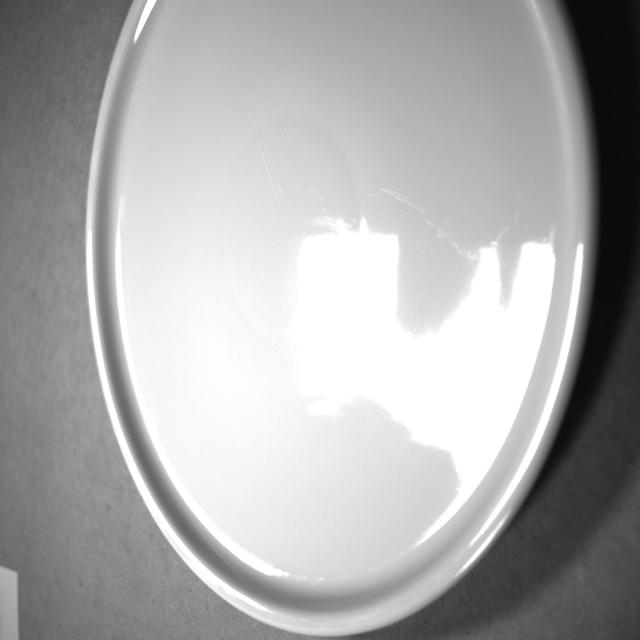plate: (57, 0, 605, 640)
